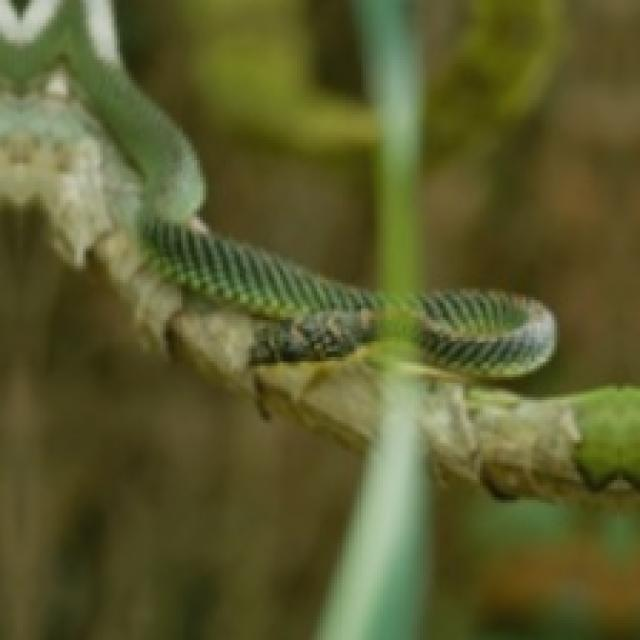paradise tree snake: (0, 0, 554, 374)
